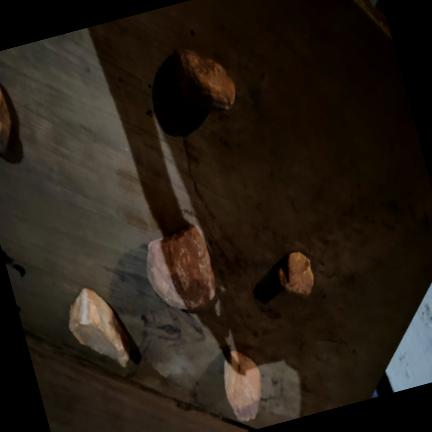Rocks: (147, 225, 215, 308), (69, 287, 129, 366), (173, 48, 235, 110), (224, 350, 261, 420), (278, 251, 313, 296), (0, 83, 11, 152)
